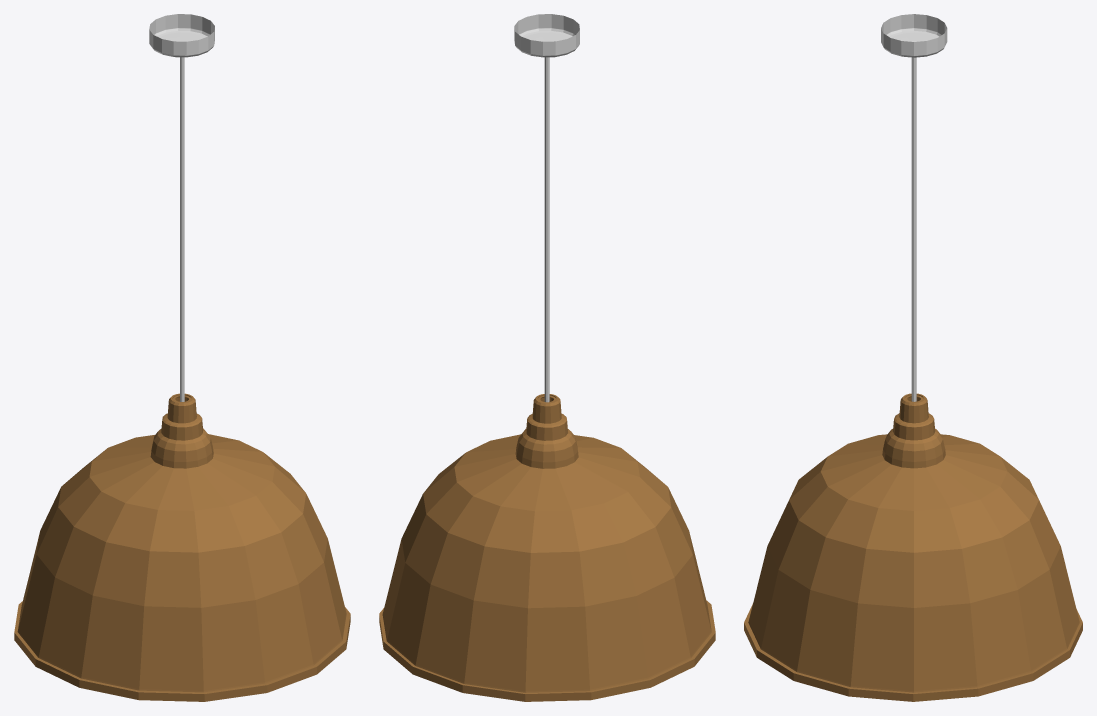
File: hangingLight.obj
3 renders of one model, left to right at view 1: azimuth 30°, elevation 25°; view 2: azimuth 150°, elevation 25°; view 3: azimuth 270°, elevation 25°, orthographic.
Parts seen in each view (by area): view 1: Lamp-shade_Cylinder.014, Light-Ceiling-Fitting_Circle, Lampshade-cable_Cylinder.015; view 2: Lamp-shade_Cylinder.014, Light-Ceiling-Fitting_Circle, Lampshade-cable_Cylinder.015; view 3: Lamp-shade_Cylinder.014, Light-Ceiling-Fitting_Circle, Lampshade-cable_Cylinder.015.
Part boxes in pixels (x1=…): Lamp-shade_Cylinder.014: x1=14, y1=393, x2=350, y2=701; Light-Ceiling-Fitting_Circle: x1=149, y1=14, x2=214, y2=57; Lampshade-cable_Cylinder.015: x1=180, y1=57, x2=184, y2=401; Lamp-shade_Cylinder.014: x1=379, y1=394, x2=715, y2=701; Light-Ceiling-Fitting_Circle: x1=514, y1=14, x2=579, y2=57; Lampshade-cable_Cylinder.015: x1=544, y1=57, x2=549, y2=402; Lamp-shade_Cylinder.014: x1=744, y1=393, x2=1082, y2=701; Light-Ceiling-Fitting_Circle: x1=881, y1=14, x2=947, y2=57; Lampshade-cable_Cylinder.015: x1=911, y1=57, x2=916, y2=401.
Size of the model in its own units: 43.89 by 86.04 by 43.89.
